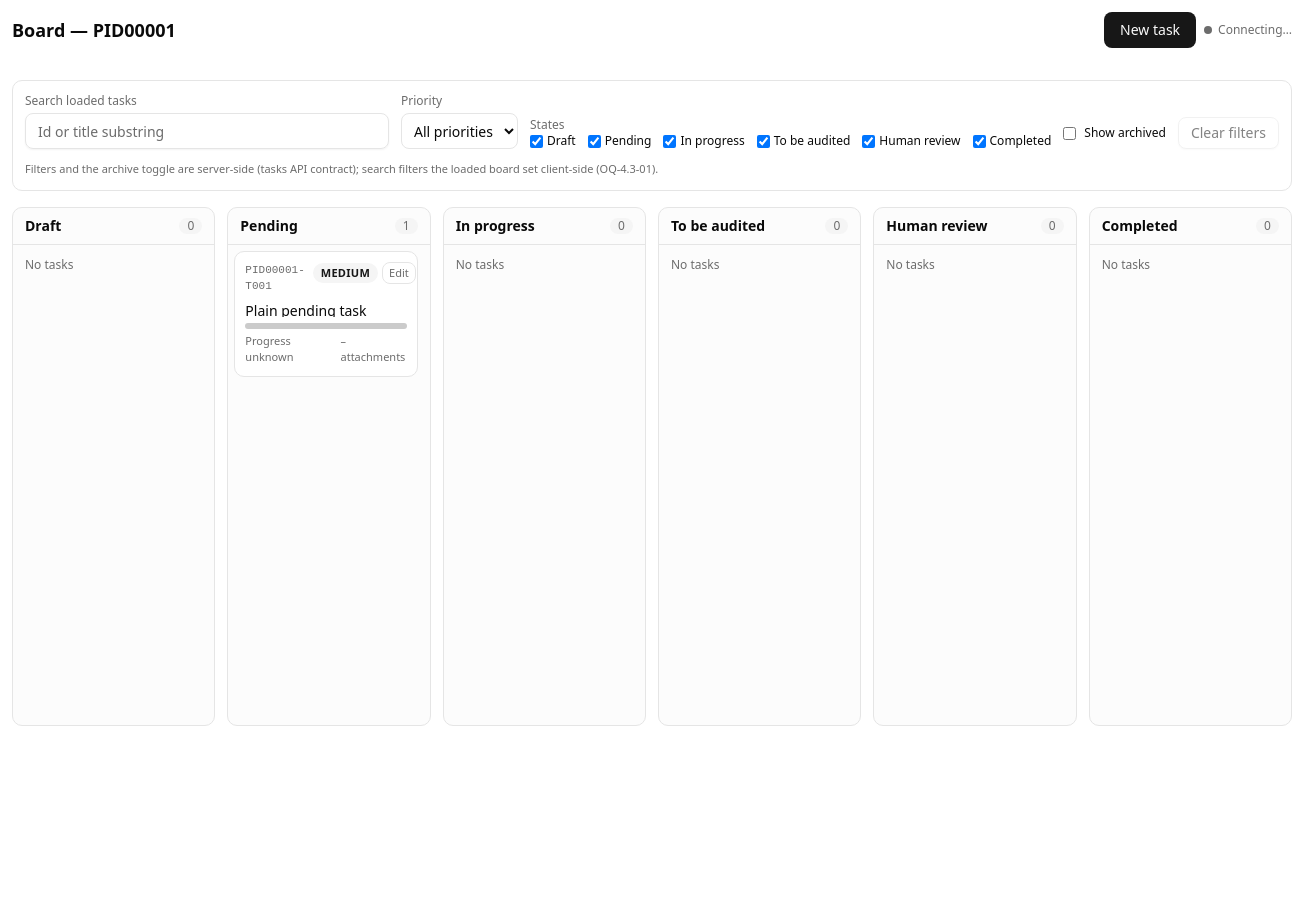
it: Board filters (MT-4.3-03) › hides archived tasks by default and reveals them only with the archive toggle (T19)
The width and height of the screenshot is (1304, 912).
Expected: the link "Plain pending task" is shown, [245, 300, 366, 316]
Expected: the text "Archived cleanup task" is not shown
Step 1. Click the checkbox with test id "board-archive-toggle" → (1070, 133), box [1063, 126, 1076, 140]
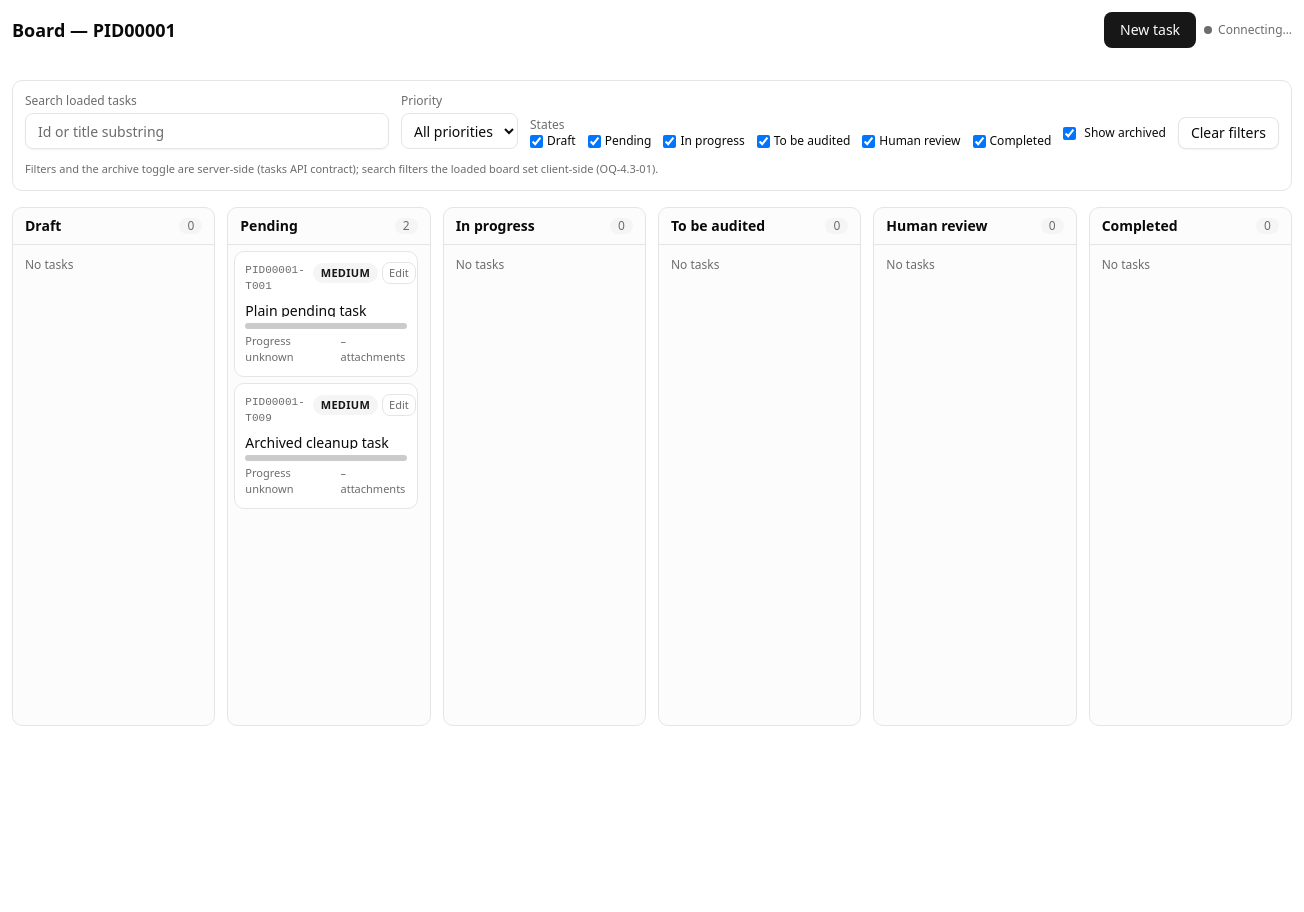
Now the link "Archived cleanup task" is shown, box [245, 432, 389, 448]
